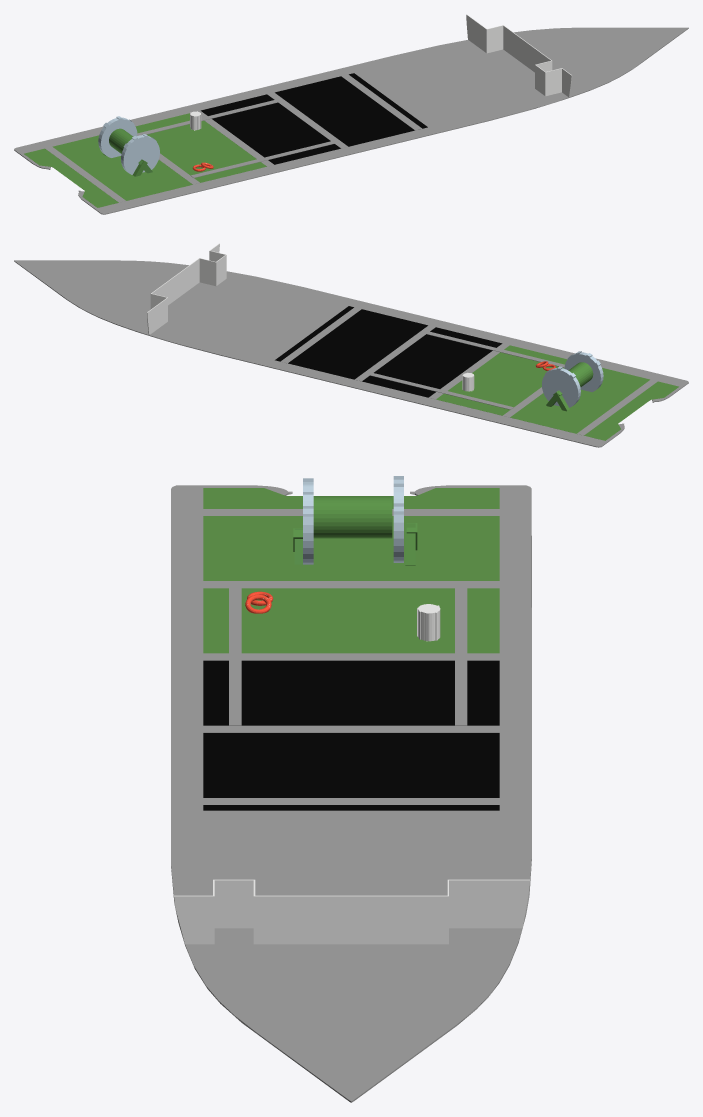
File: deck_reeler.dae
3 views of the same model, one above another, from view 1: azimuth 30°, elevation 25°; view 2: azimuth 150°, elevation 25°; view 3: azimuth 270°, elevation 25° (orthographic). The views are drawn at different scales.
Visible parts, largest first — view 1: node8.001, node2.004, node1.001, node0.005, Cylinder.003, Cylinder.002, Cube.002, node5.004, node7.004, node3.004, Cube.001, node6.004 (+1 smaller); view 2: node8.001, node2.004, node1.001, node0.005, Cylinder.002, Cylinder.003, Cube.001, node5.004, node7.004, node3.004, Cube.002, node6.004 (+1 smaller); view 3: node8.001, node2.004, node1.001, node0.005, Cylinder.001, node3.004, node4.001, node6.004, node7.004, Cube.002, Cube.001, node5.004 (+2 smaller).
Part boxes in pixels (x1,y1,x2,y2): node8.001: (14, 27, 688, 214); node2.004: (201, 73, 427, 164); node1.001: (24, 113, 266, 207); node0.005: (466, 14, 572, 97); Cylinder.003: (121, 134, 159, 174); Cylinder.002: (98, 116, 137, 157); Cube.002: (190, 141, 334, 177); node5.004: (45, 147, 125, 202); node7.004: (341, 74, 421, 130); node3.004: (267, 92, 347, 148); Cube.001: (137, 100, 278, 135); node6.004: (198, 110, 273, 166); node8.001: (14, 260, 688, 447); node2.004: (275, 306, 502, 397); node1.001: (436, 345, 678, 440); node0.005: (147, 243, 226, 335); Cylinder.002: (542, 366, 580, 407); Cylinder.003: (564, 351, 603, 392); Cube.001: (369, 373, 513, 409); node5.004: (577, 379, 657, 435); node7.004: (281, 307, 361, 363); node3.004: (355, 325, 435, 381); Cube.002: (426, 331, 564, 367); node6.004: (428, 343, 509, 399); node8.001: (171, 485, 531, 1102); node2.004: (203, 660, 499, 810); node1.001: (203, 488, 499, 653); node0.005: (174, 879, 529, 944); Cylinder.001: (313, 496, 392, 538); node3.004: (203, 725, 499, 732); node4.001: (203, 581, 499, 588); node6.004: (203, 653, 499, 660); node7.004: (203, 798, 499, 804); Cube.002: (229, 587, 241, 725); Cube.001: (455, 587, 467, 725); node5.004: (203, 509, 499, 515).
Bounding box in the file's own units: 1.38 × 0.3424 × 0.0892.
